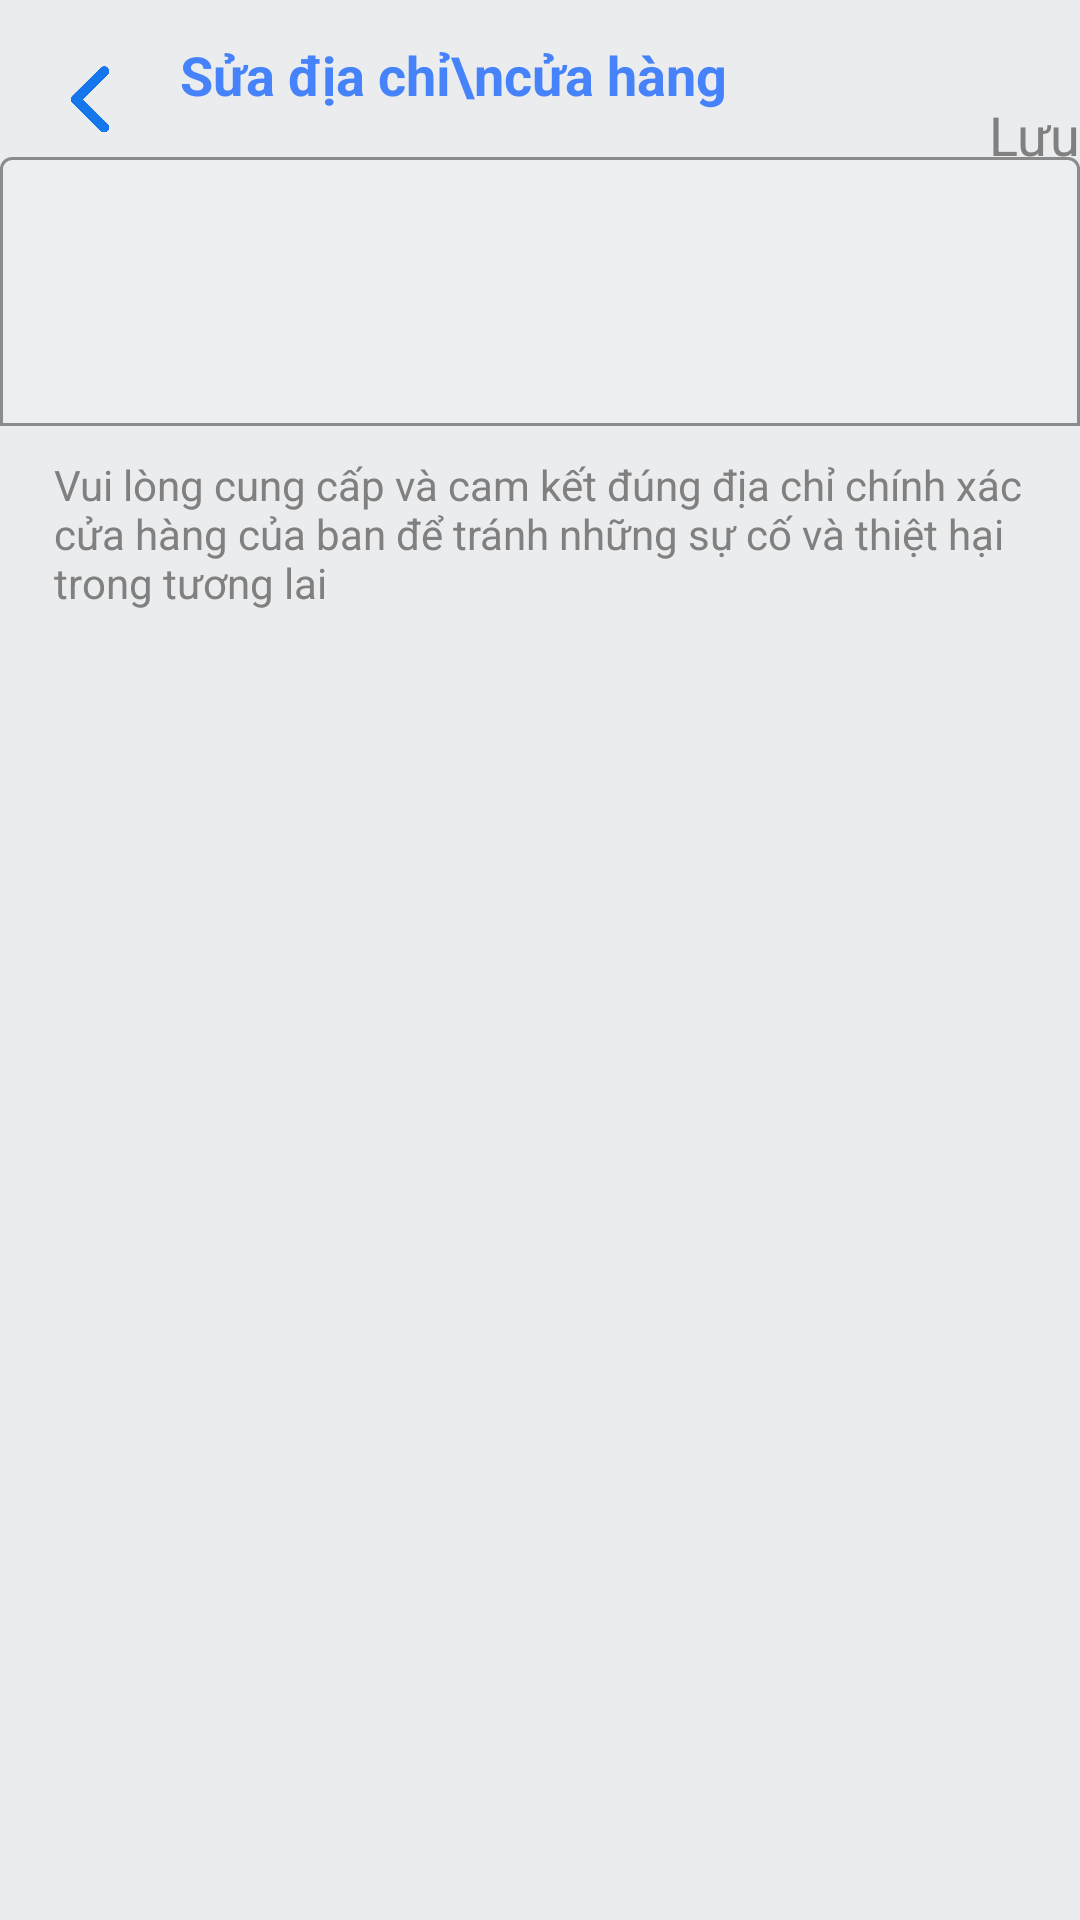

Where to tap for icons on this 1080px x 1920px app screen, as [x,y]:
back: [90,99]
